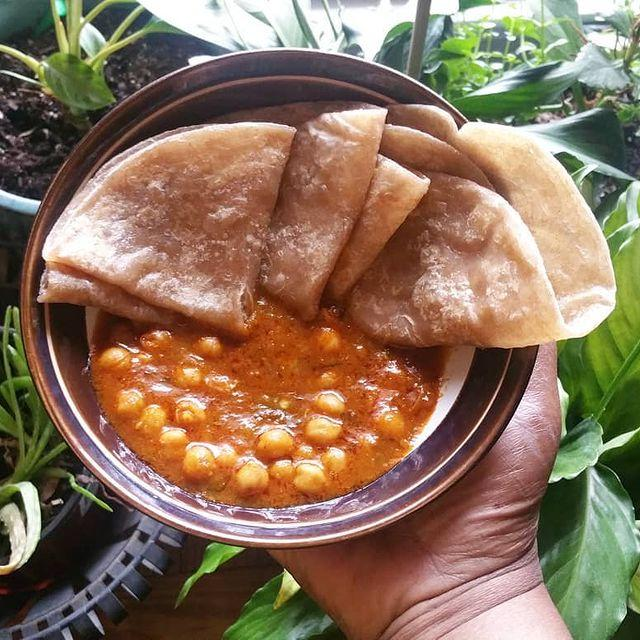Chole: (108, 346, 388, 519)
